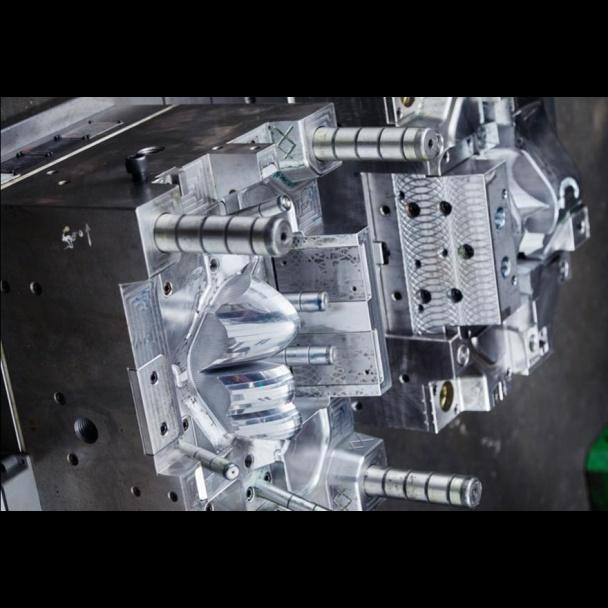hole: (69, 416, 100, 447)
